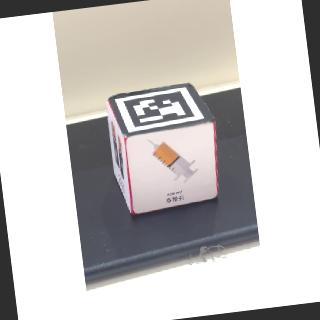Syringe: (123, 121, 225, 213)
